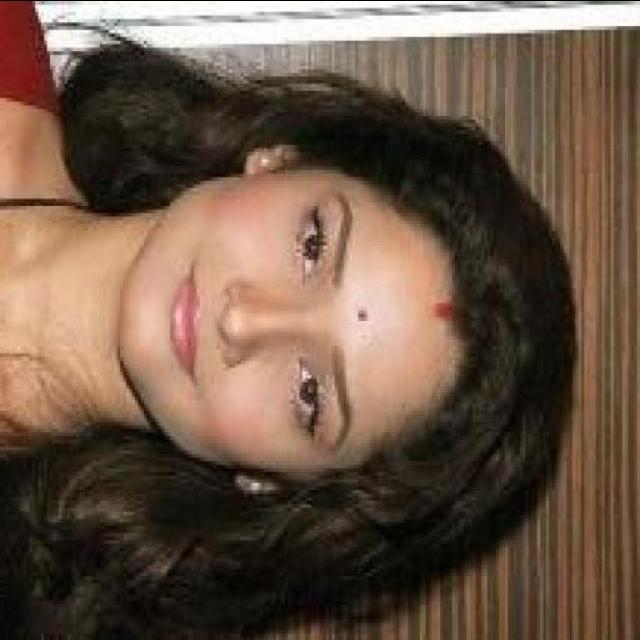bareface: (84, 116, 522, 477)
